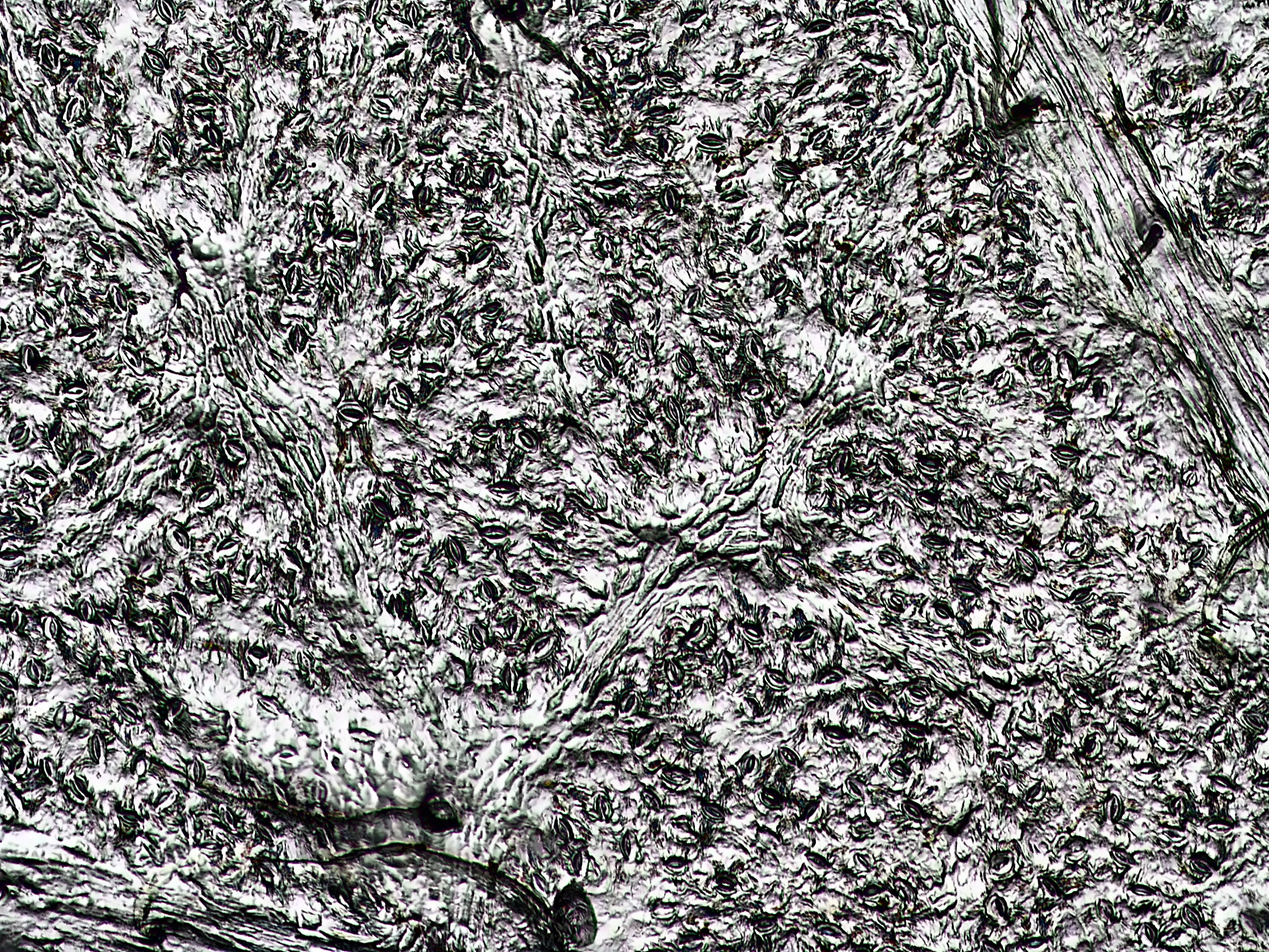stomata: (564, 848, 600, 884), (280, 321, 313, 359), (320, 267, 358, 300), (179, 85, 220, 114), (332, 399, 374, 427), (60, 773, 93, 808), (526, 533, 567, 561), (385, 379, 417, 414), (134, 46, 169, 78), (185, 484, 223, 513), (463, 240, 498, 271), (810, 664, 850, 691), (82, 238, 115, 269), (219, 434, 249, 468), (329, 129, 358, 163), (787, 620, 822, 648), (775, 553, 810, 581), (151, 128, 179, 163), (1227, 161, 1267, 185), (964, 127, 996, 157), (276, 545, 308, 575), (521, 870, 555, 898), (122, 382, 156, 410), (110, 123, 135, 161), (705, 872, 742, 897), (770, 156, 804, 183), (786, 78, 824, 102), (84, 729, 108, 767), (660, 395, 689, 426), (28, 303, 57, 334), (280, 264, 307, 297), (628, 269, 662, 295), (655, 764, 690, 789), (857, 50, 892, 75), (738, 617, 767, 647), (900, 681, 930, 710), (547, 814, 577, 843), (106, 285, 134, 316), (506, 569, 538, 596), (811, 922, 847, 946), (1151, 74, 1178, 106), (363, 92, 395, 119), (483, 479, 522, 501), (946, 577, 983, 600), (1054, 350, 1079, 384), (216, 801, 241, 835), (254, 857, 283, 886), (773, 745, 803, 773), (1, 786, 25, 821), (35, 41, 63, 71), (164, 522, 190, 554), (657, 181, 682, 214), (66, 447, 99, 472), (742, 328, 766, 362), (126, 751, 154, 780), (118, 343, 145, 373), (15, 346, 42, 376), (363, 495, 395, 520), (568, 198, 593, 230), (61, 95, 86, 127), (526, 634, 559, 658), (618, 829, 642, 862), (607, 298, 636, 325), (5, 420, 34, 447), (1001, 502, 1035, 525), (309, 824, 335, 854), (857, 689, 888, 714), (346, 45, 368, 80), (535, 506, 567, 530), (957, 495, 981, 527), (167, 590, 191, 622), (146, 615, 170, 647), (411, 181, 435, 213), (283, 108, 315, 132), (943, 162, 981, 182), (1100, 792, 1123, 825), (962, 631, 995, 654), (987, 179, 1010, 212), (735, 751, 762, 779), (74, 19, 101, 47), (472, 576, 501, 602), (985, 851, 1014, 877), (616, 688, 641, 718), (983, 893, 1008, 923), (71, 769, 95, 800), (801, 18, 838, 38), (64, 322, 96, 345), (477, 525, 512, 546), (1201, 815, 1236, 836), (1154, 728, 1182, 754), (511, 427, 539, 453), (389, 292, 417, 318), (448, 159, 474, 187), (1185, 855, 1218, 877), (178, 809, 200, 842), (364, 182, 389, 211), (269, 164, 294, 193), (453, 28, 472, 66), (755, 787, 785, 811), (714, 187, 750, 207), (736, 379, 772, 399), (268, 599, 292, 629), (370, 260, 394, 290), (18, 465, 54, 485), (854, 883, 888, 904), (39, 614, 62, 645), (666, 821, 698, 843), (474, 299, 506, 321), (1013, 546, 1039, 573), (1033, 471, 1060, 497), (1040, 403, 1075, 423), (841, 92, 876, 112), (695, 227, 720, 255), (3, 302, 28, 330), (875, 451, 899, 480), (624, 402, 653, 426), (183, 754, 207, 783), (383, 475, 416, 496), (396, 527, 429, 548), (427, 25, 448, 58), (562, 487, 592, 510), (926, 602, 956, 625), (818, 723, 849, 745), (747, 915, 781, 935), (914, 455, 948, 475), (756, 97, 776, 131), (305, 198, 325, 232), (993, 758, 1019, 784), (24, 656, 49, 683), (798, 797, 822, 825), (212, 572, 233, 604), (685, 616, 708, 645), (881, 257, 904, 286), (630, 332, 653, 361), (1048, 442, 1083, 461), (921, 285, 954, 305), (75, 594, 97, 624), (443, 535, 464, 566), (440, 94, 471, 115), (1036, 874, 1062, 899), (0, 545, 26, 570), (1180, 904, 1204, 931), (892, 880, 916, 907), (678, 731, 705, 755), (990, 469, 1017, 493), (603, 125, 627, 152), (593, 350, 617, 377), (714, 648, 733, 682), (347, 725, 381, 744), (963, 323, 986, 351), (637, 453, 665, 476), (432, 313, 460, 336), (870, 549, 902, 569), (712, 71, 744, 91), (116, 701, 148, 721), (591, 792, 613, 821), (54, 703, 76, 732), (15, 254, 44, 276), (640, 104, 675, 122), (379, 132, 400, 162), (847, 2, 880, 21), (135, 556, 160, 581), (741, 695, 765, 721), (899, 798, 925, 822), (639, 787, 663, 813), (1165, 690, 1188, 717), (1153, 647, 1176, 674), (1094, 896, 1117, 923), (202, 123, 225, 150), (1205, 774, 1236, 794), (800, 852, 831, 872), (1066, 586, 1097, 606), (1106, 845, 1134, 867), (1082, 732, 1104, 760), (881, 590, 909, 612), (679, 7, 707, 29), (54, 280, 76, 308), (401, 0, 423, 28), (1237, 708, 1266, 729), (884, 761, 913, 782), (499, 662, 518, 694), (652, 71, 684, 90), (466, 624, 491, 648), (1019, 607, 1044, 631), (647, 900, 677, 920), (958, 255, 988, 275), (253, 820, 278, 844), (635, 231, 659, 256), (416, 138, 446, 158), (200, 52, 225, 76), (664, 658, 687, 684), (768, 274, 791, 300), (762, 668, 789, 690), (807, 126, 834, 148), (837, 142, 864, 164), (679, 285, 701, 312), (229, 20, 251, 47), (695, 131, 726, 150), (1131, 527, 1152, 555), (754, 12, 782, 33), (271, 745, 299, 766), (215, 863, 244, 883), (987, 366, 1011, 390), (672, 350, 696, 374), (407, 249, 431, 273), (1185, 543, 1210, 566), (949, 206, 972, 231), (592, 47, 615, 72), (154, 0, 179, 23), (151, 789, 177, 811), (271, 780, 293, 806), (382, 42, 408, 64), (6, 604, 25, 634), (303, 48, 322, 78), (699, 802, 726, 823), (698, 327, 725, 348), (481, 162, 502, 189), (1008, 330, 1036, 350), (912, 211, 940, 231), (59, 381, 90, 399), (243, 554, 262, 583), (1121, 688, 1146, 710), (1164, 794, 1189, 816), (1137, 921, 1158, 947), (1123, 884, 1155, 901), (1188, 97, 1205, 129), (615, 74, 647, 91), (591, 177, 625, 193), (1159, 829, 1189, 847), (902, 722, 929, 742), (923, 252, 950, 272), (468, 425, 498, 443), (307, 779, 327, 806), (255, 698, 282, 718), (385, 337, 412, 357), (331, 228, 358, 248), (264, 21, 282, 51), (1064, 540, 1092, 559), (1157, 0, 1176, 28), (781, 220, 809, 239), (37, 755, 56, 783), (1114, 719, 1137, 742), (1023, 780, 1046, 803), (140, 839, 163, 862), (96, 77, 120, 99), (847, 818, 872, 839), (455, 76, 476, 101), (1132, 763, 1161, 781), (933, 379, 962, 397), (1208, 50, 1228, 76), (295, 649, 315, 675), (124, 649, 143, 676), (1197, 672, 1220, 694), (844, 778, 868, 799), (936, 339, 960, 360), (863, 311, 884, 335), (1048, 711, 1068, 736), (961, 542, 988, 560), (1071, 688, 1093, 710), (8, 754, 30, 776), (744, 223, 765, 246), (1209, 720, 1229, 744), (1018, 936, 1048, 952), (659, 855, 689, 871), (708, 273, 738, 289), (245, 646, 269, 666), (597, 234, 617, 258), (1015, 296, 1043, 313), (501, 613, 520, 638), (851, 851, 876, 870), (849, 501, 875, 519), (836, 450, 854, 476), (116, 810, 145, 826), (1028, 354, 1051, 374), (576, 92, 599, 112), (655, 135, 674, 159), (166, 699, 185, 723), (214, 537, 238, 556), (47, 419, 66, 443), (461, 212, 486, 230), (995, 278, 1021, 295), (1004, 228, 1030, 245), (115, 593, 130, 622), (919, 534, 950, 548), (622, 33, 650, 48), (1087, 623, 1110, 641), (1076, 499, 1099, 517), (913, 490, 936, 508), (607, 0, 625, 23), (0, 669, 18, 692), (416, 362, 444, 376), (397, 756, 420, 772), (1063, 847, 1087, 862), (1248, 130, 1268, 148), (195, 838, 219, 853), (319, 741, 334, 764), (368, 0, 384, 21), (1181, 470, 1199, 488), (0, 721, 11, 736)
